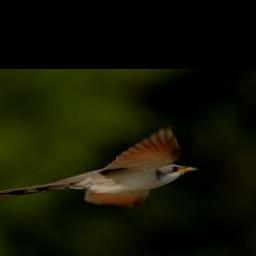Cuckoo: (0, 128, 198, 204)
